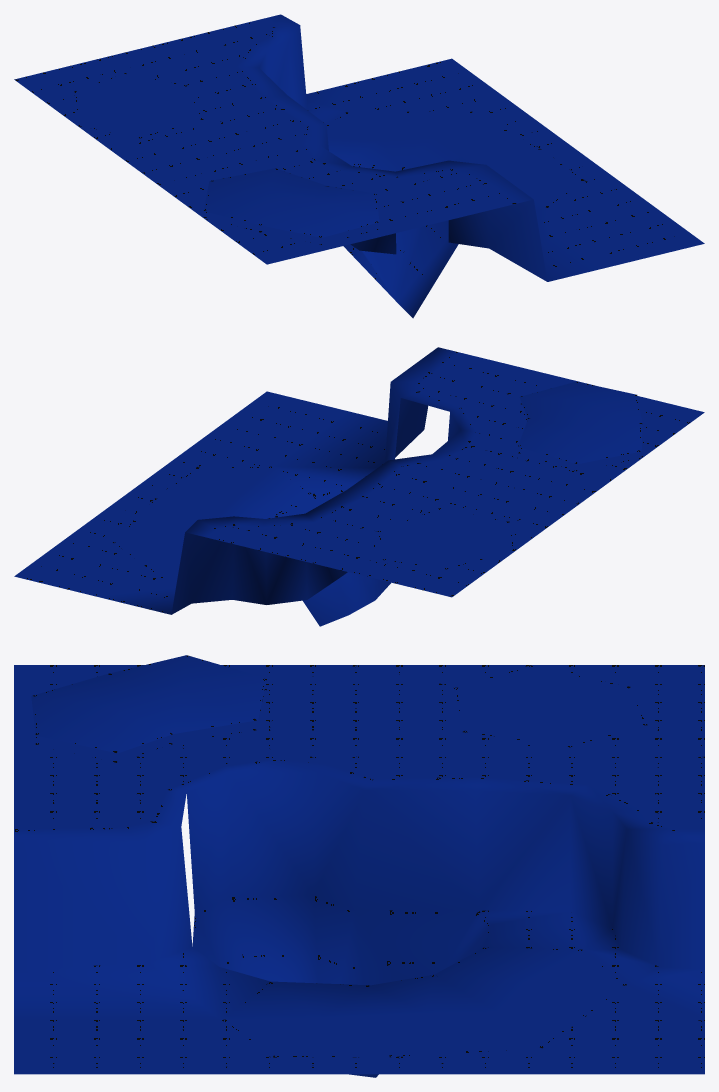
The model's file is GRD_S_C3_2.fbx.
3 views of the same model, one above another, from view 1: azimuth 30°, elevation 25°; view 2: azimuth 150°, elevation 25°; view 3: azimuth 270°, elevation 25° (orthographic). The views are drawn at different scales.
Parts seen in each view (by area): view 1: material_00032000, material_C0022000, material_00042000, material_C0012000, material_C0052000, material_C0062000; view 2: material_00032000, material_C0022000, material_00042000, material_C0012000, material_C0052000, material_C0062000; view 3: material_00032000, material_00042000, material_C0022000, material_C0052000, material_C0012000, material_C0062000.
Boxes of the visible parts, bbox=[...] form: material_00032000: bbox=[14, 19, 704, 281]; material_C0022000: bbox=[74, 72, 585, 208]; material_00042000: bbox=[236, 14, 547, 281]; material_C0012000: bbox=[203, 168, 379, 237]; material_C0052000: bbox=[343, 164, 458, 318]; material_C0062000: bbox=[204, 211, 379, 244]; material_00032000: bbox=[14, 352, 704, 614]; material_C0022000: bbox=[112, 466, 515, 588]; material_00042000: bbox=[171, 347, 475, 614]; material_C0012000: bbox=[518, 381, 642, 464]; material_C0052000: bbox=[273, 486, 390, 626]; material_C0062000: bbox=[518, 403, 642, 471]; material_00032000: bbox=[14, 665, 704, 1074]; material_00042000: bbox=[14, 759, 704, 969]; material_C0022000: bbox=[221, 665, 647, 1057]; material_C0052000: bbox=[192, 895, 491, 1077]; material_C0012000: bbox=[31, 655, 266, 753]; material_C0062000: bbox=[31, 687, 266, 763].
Bounding box in the file's own units: 12800 × 5400 × 12800.
